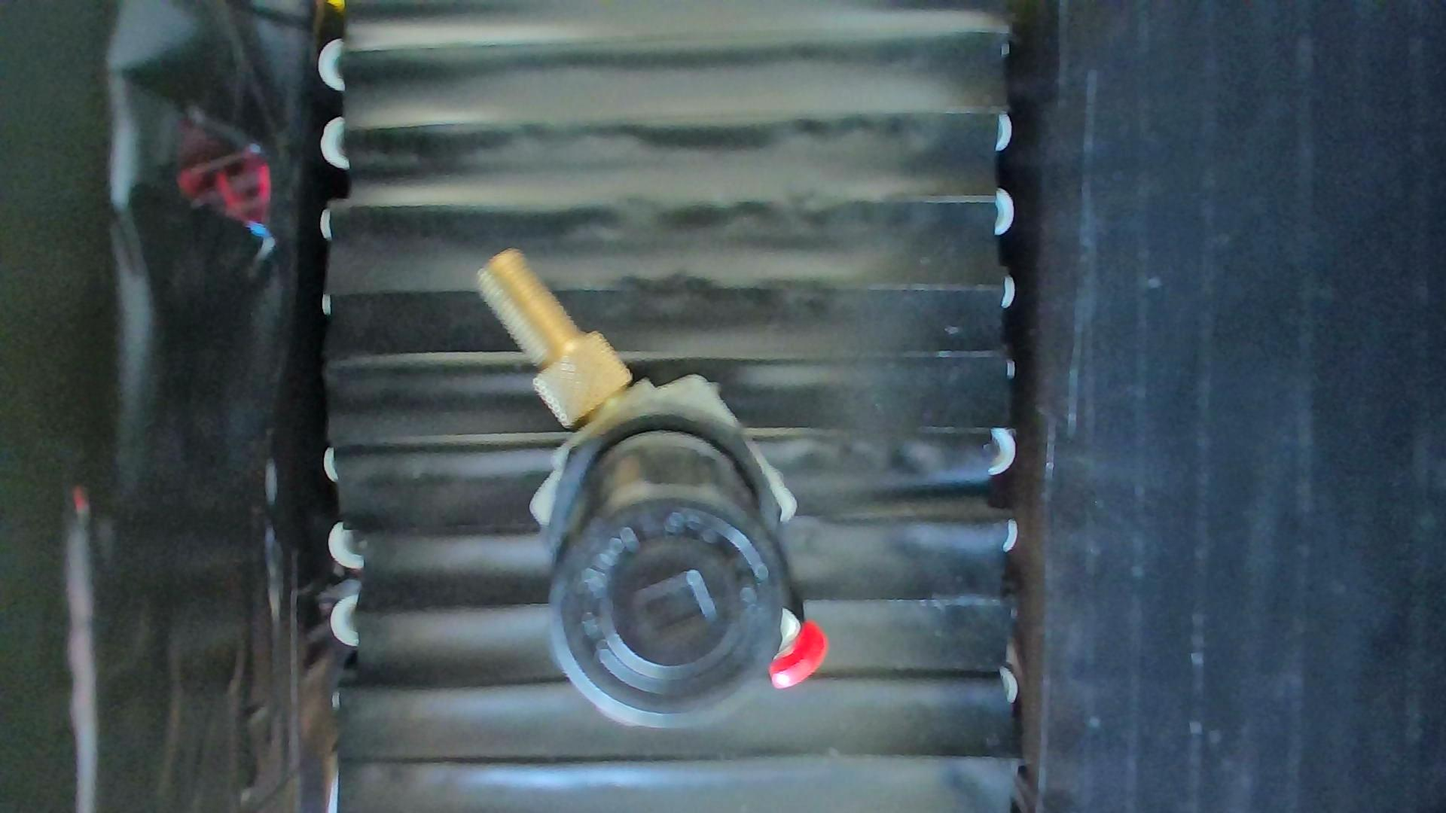regulator: (472, 246, 828, 730)
